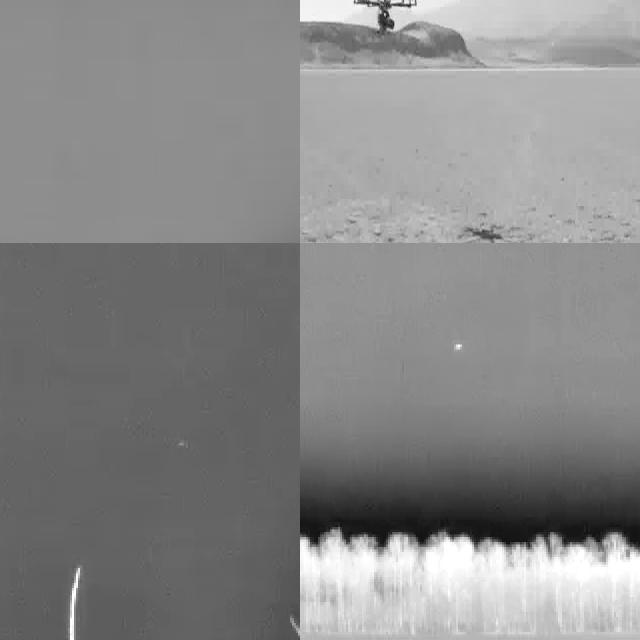0: (170, 433, 188, 461)
1: (441, 337, 467, 362)
drone: (350, 0, 417, 31)
